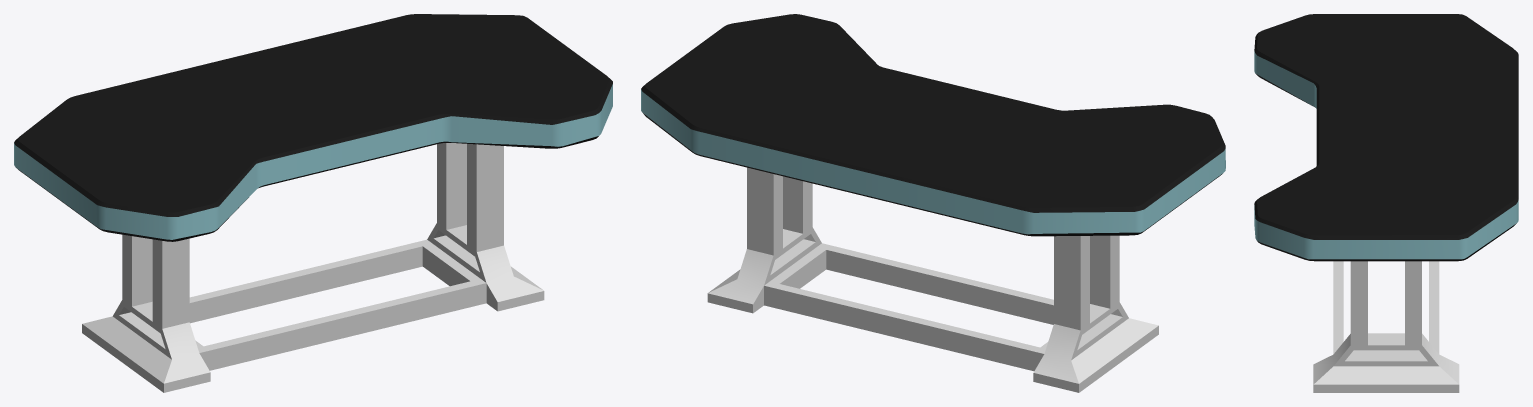
File: Table_V2B.fbx
The picture shows the model from 3 angles, left to right: view 1: azimuth 30°, elevation 25°; view 2: azimuth 150°, elevation 25°; view 3: azimuth 270°, elevation 25°; orthographic projection. The views are drawn at different scales.
Parts seen in each view (by area): view 1: Table_V2B; view 2: Table_V2B; view 3: Table_V2B.
Part boxes in pixels (x1,y1,x2,y2): Table_V2B: (14,14,612,392); Table_V2B: (641,14,1225,392); Table_V2B: (1254,14,1518,392).
Size of the model in its own units: 200 by 77.4 by 99.95.
